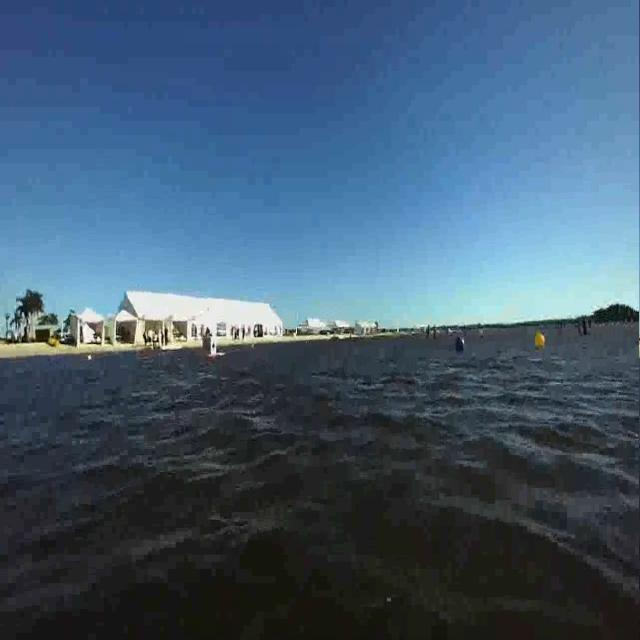blue-buoy: (455, 336, 466, 354)
yellow-buoy: (535, 332, 545, 349)
